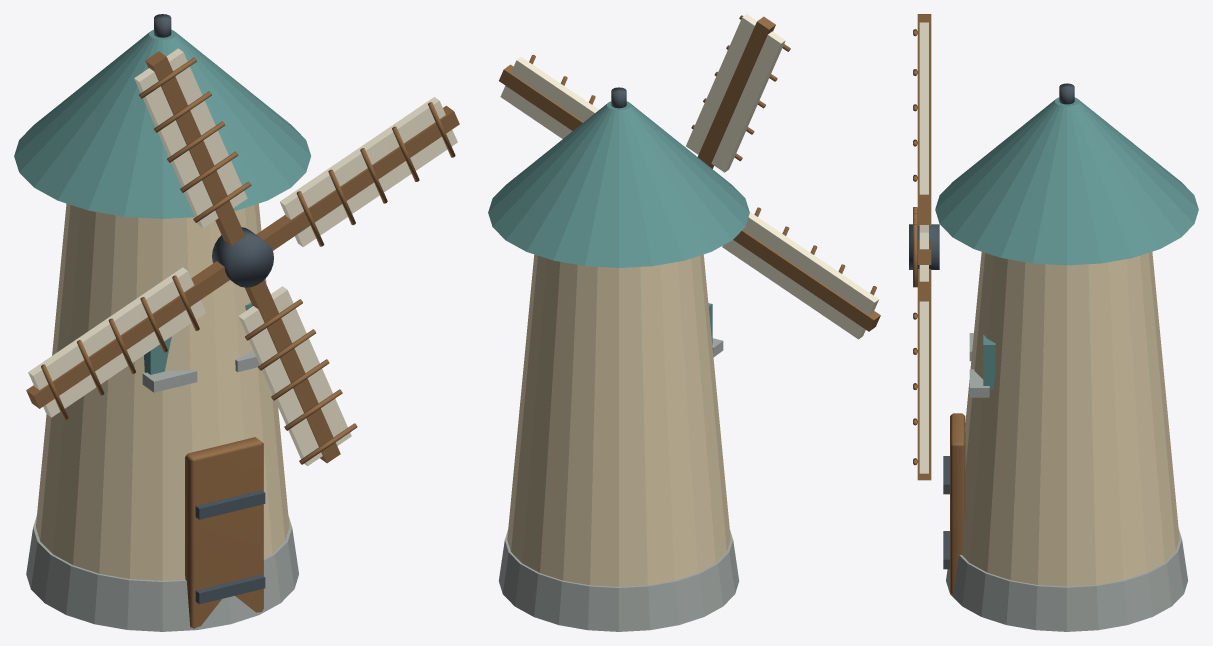
File: windmill.glb
3 renders of one model, left to right at view 1: azimuth 30°, elevation 25°; view 2: azimuth 150°, elevation 25°; view 3: azimuth 270°, elevation 25°, orthographic. The views are drawn at different scales.
Visible parts, largest first — view 1: Windmill tapered tower, move_spin_windmill_sails, Windmill conical roof, Windmill stone skirt, Windmill front oak door, Windmill door iron strap, Windmill door iron strap.001, Windmill window sill, Windmill upper window; view 2: Windmill tapered tower, Windmill conical roof, move_spin_windmill_sails, Windmill stone skirt; view 3: Windmill tapered tower, Windmill conical roof, Windmill stone skirt, move_spin_windmill_sails, Windmill front oak door, Windmill upper window.001, Windmill window sill.001.
Boxes of the visible parts, left/top/right/bottom form: Windmill tapered tower: left=36, top=203, right=289, bottom=580; move_spin_windmill_sails: left=26, top=48, right=459, bottom=466; Windmill conical roof: left=14, top=29, right=311, bottom=218; Windmill stone skirt: left=26, top=515, right=298, bottom=631; Windmill front oak door: left=185, top=437, right=263, bottom=628; Windmill door iron strap: left=195, top=574, right=265, bottom=604; Windmill door iron strap.001: left=195, top=490, right=265, bottom=519; Windmill window sill: left=142, top=369, right=197, bottom=392; Windmill upper window: left=144, top=336, right=171, bottom=374; Windmill tapered tower: left=507, top=254, right=730, bottom=586; Windmill conical roof: left=488, top=101, right=749, bottom=267; move_spin_windmill_sails: left=499, top=14, right=880, bottom=339; Windmill stone skirt: left=499, top=529, right=739, bottom=631; Windmill tapered tower: left=961, top=252, right=1179, bottom=586; Windmill conical roof: left=935, top=97, right=1198, bottom=265; Windmill stone skirt: left=946, top=529, right=1187, bottom=631; move_spin_windmill_sails: left=909, top=14, right=939, bottom=480; Windmill front oak door: left=950, top=413, right=965, bottom=593; Windmill upper window.001: left=983, top=335, right=995, bottom=389; Windmill window sill.001: left=969, top=369, right=989, bottom=397.
Size of the model in its own units: 2.85 by 3.82 by 1.89.
